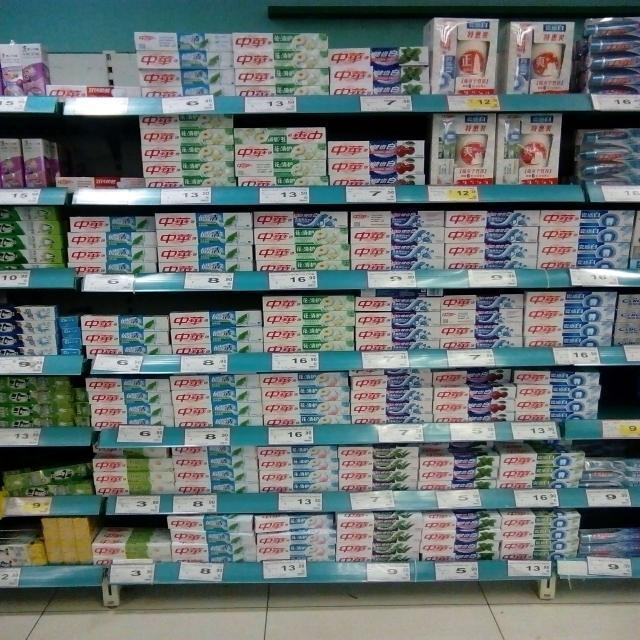Imprecise: (498, 438, 582, 491), (422, 440, 499, 490)
